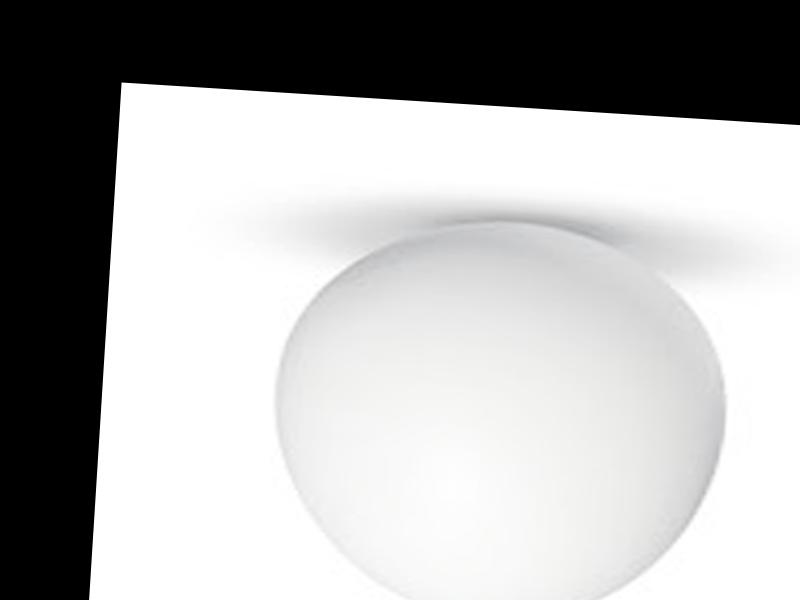Eggs: (263, 210, 729, 600)
